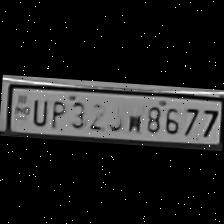2: (86, 96, 106, 130)
3: (66, 95, 86, 128)
6: (160, 102, 179, 134)
7: (196, 105, 218, 136), (179, 104, 198, 136)
8: (142, 101, 162, 133)
P: (46, 96, 66, 127)
U: (28, 95, 48, 125)
